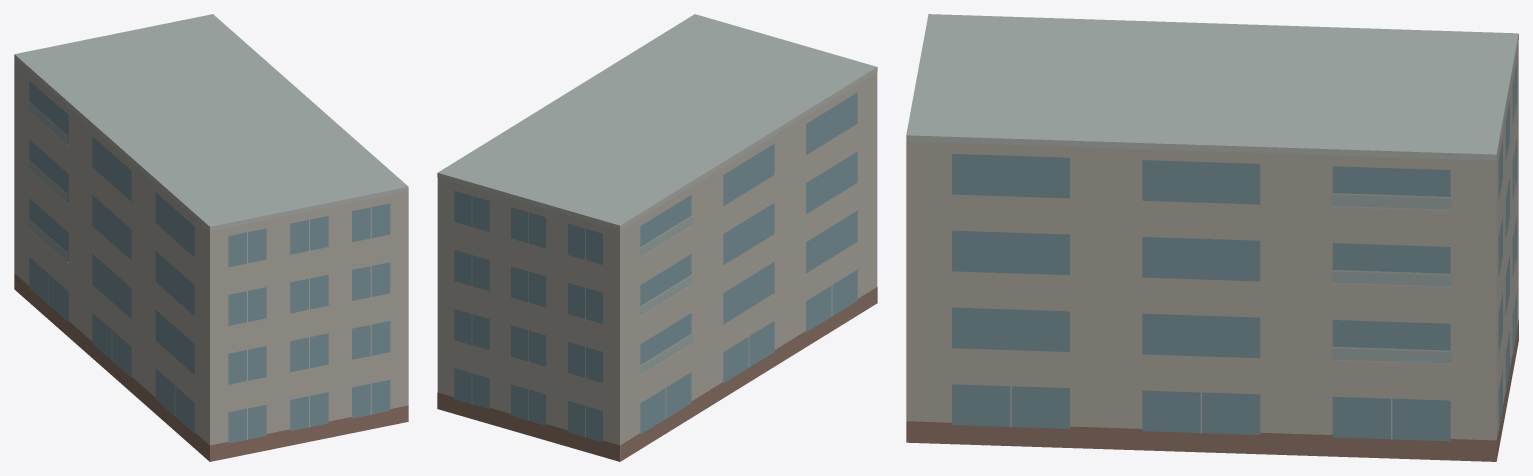
The model's file is residential-8454ded3-48c4-43d8-8d3f-9b9f8a68f5ae.glb.
3 views of the same model, side by side, from view 1: azimuth 30°, elevation 25°; view 2: azimuth 150°, elevation 25°; view 3: azimuth 270°, elevation 25° (orthographic). The views are drawn at different scales.
Parts seen in each view (by area): view 1: residential-8454ded3-48c4-43d8-8d3f-9b9f8a68f5ae.tmp; view 2: residential-8454ded3-48c4-43d8-8d3f-9b9f8a68f5ae.tmp; view 3: residential-8454ded3-48c4-43d8-8d3f-9b9f8a68f5ae.tmp.
Part boxes in pixels (x1,y1,x2,y2): residential-8454ded3-48c4-43d8-8d3f-9b9f8a68f5ae.tmp: (14, 14, 408, 461); residential-8454ded3-48c4-43d8-8d3f-9b9f8a68f5ae.tmp: (437, 14, 877, 461); residential-8454ded3-48c4-43d8-8d3f-9b9f8a68f5ae.tmp: (906, 14, 1518, 461).
Bounding box in the file's own units: 11.98 × 12.2 × 22.05.
